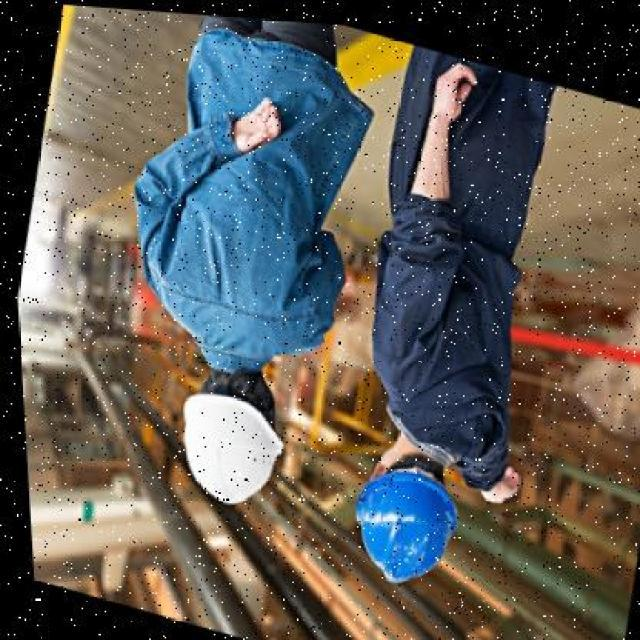helmet: (328, 447, 462, 585), (151, 379, 285, 517)
